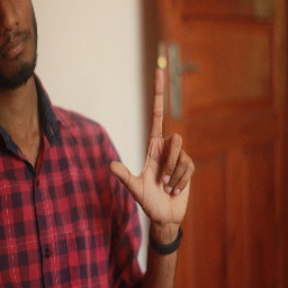L: (110, 68, 196, 221)
